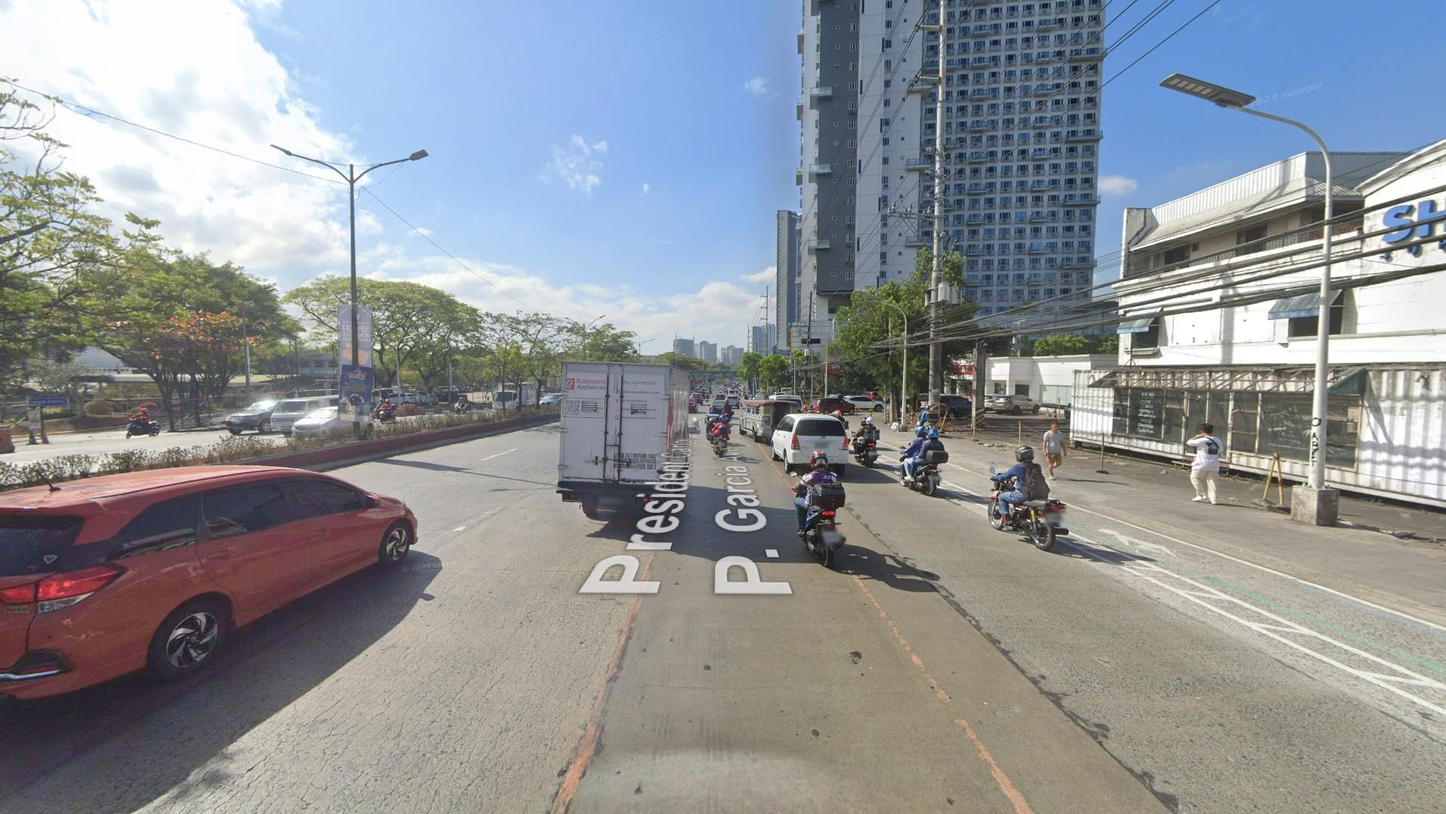pedestrian: (1185, 421, 1225, 505), (1042, 420, 1068, 482)
